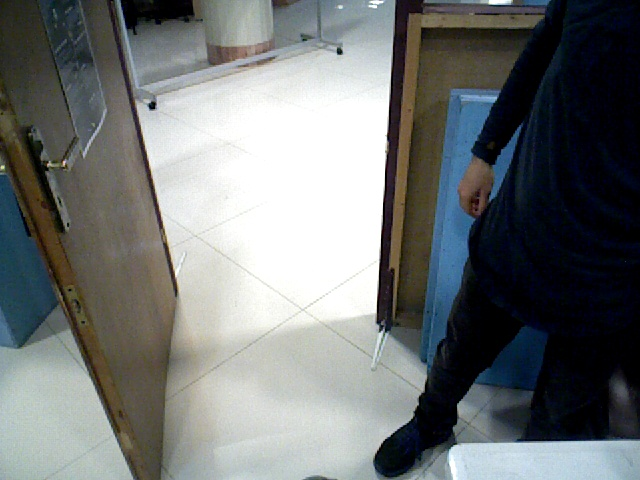door_handle: (21, 124, 84, 236)
